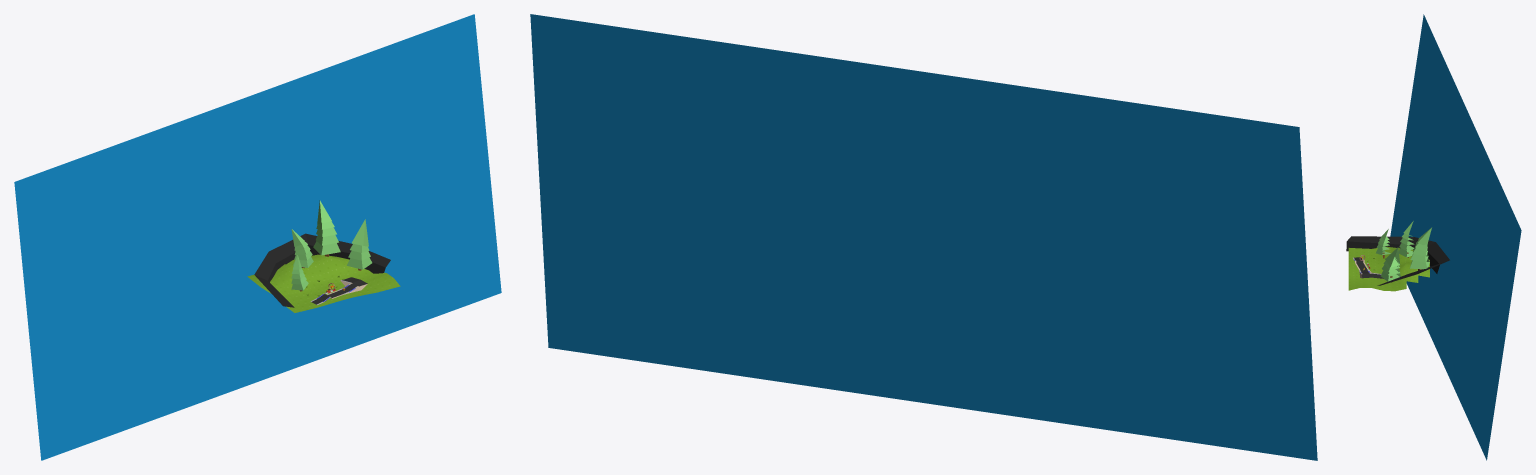
File: Car Mania - Main Menu.glb
3 views of the same model, side by side, from view 1: azimuth 30°, elevation 25°; view 2: azimuth 150°, elevation 25°; view 3: azimuth 270°, elevation 25° (orthographic). The views are drawn at different scales.
Parts seen in each view (by area): view 1: Env, Hill; view 2: Env; view 3: Env, Hill.
Boxes of the visible parts, x1,y1,x2,y2 form: Env: [14, 14, 501, 460]; Hill: [247, 254, 400, 312]; Env: [530, 14, 1317, 460]; Env: [1346, 14, 1521, 460]; Hill: [1348, 246, 1429, 291].
Size of the model in its own units: 365 by 177 by 123.
Materials: 2 (2 with a texture image).
